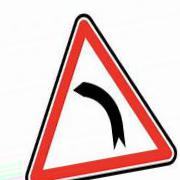left: (24, 13, 176, 180)
